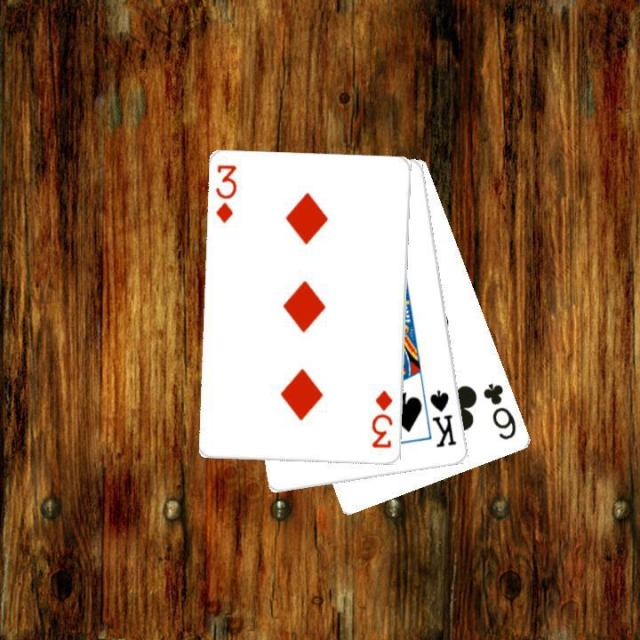3D: (368, 386, 396, 450), (212, 162, 239, 226)
6C: (479, 379, 519, 442)
KS: (426, 386, 458, 450)
